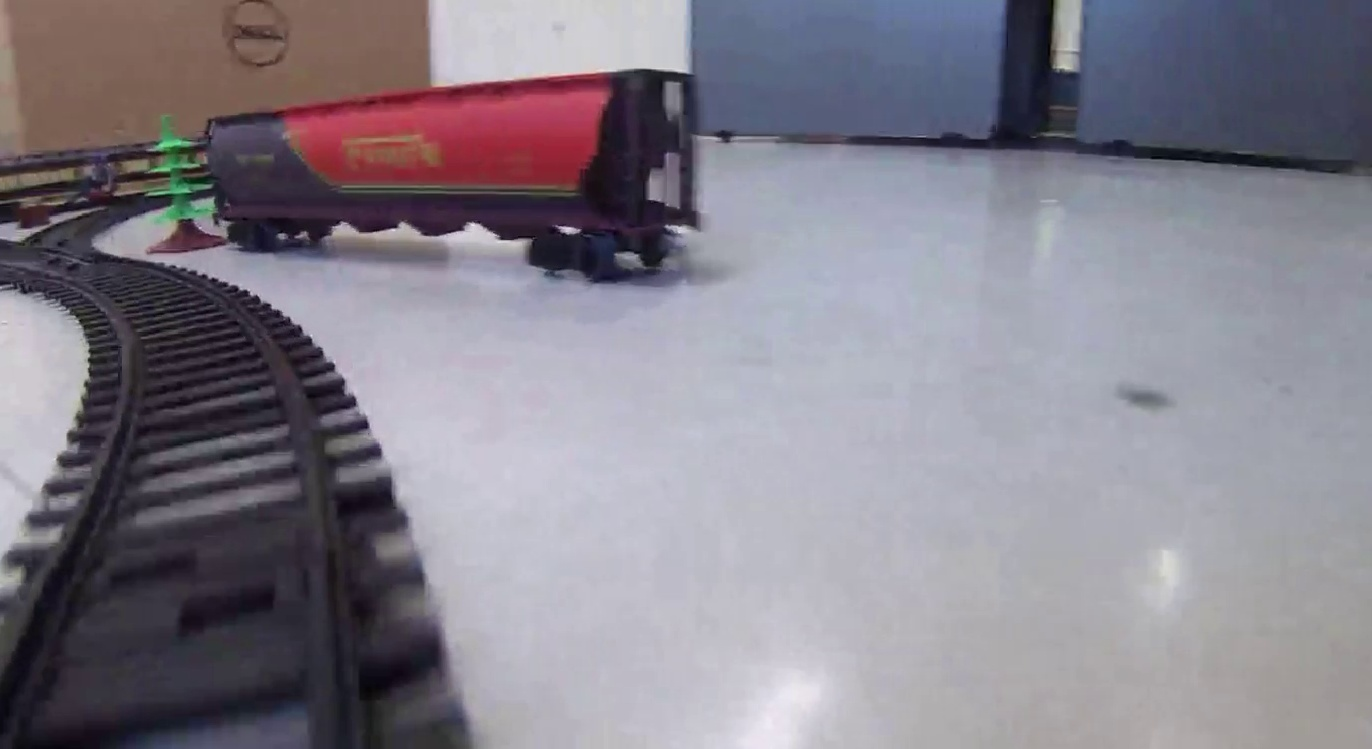tree: (142, 117, 216, 253)
